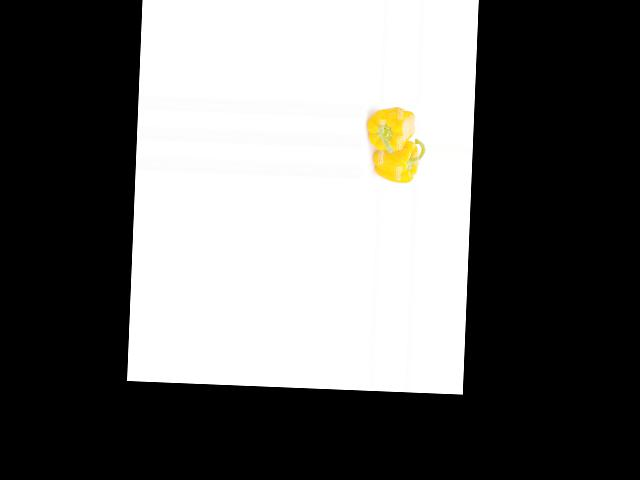bell_pepper: (371, 135, 424, 184)
